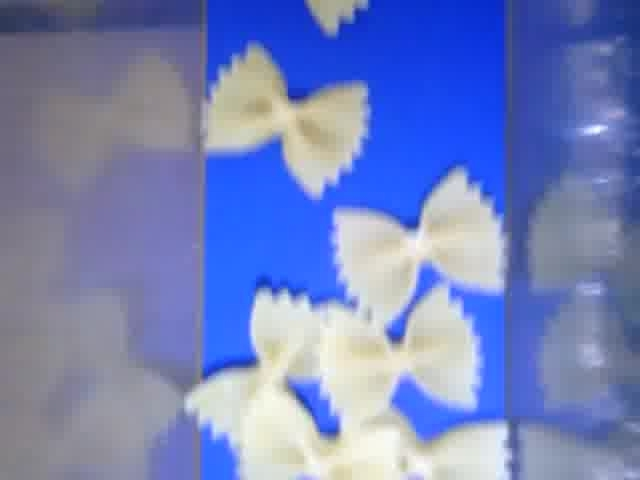farfalle: (333, 165, 507, 326), (202, 42, 375, 201), (182, 287, 325, 445), (319, 284, 478, 416), (307, 1, 378, 35)
